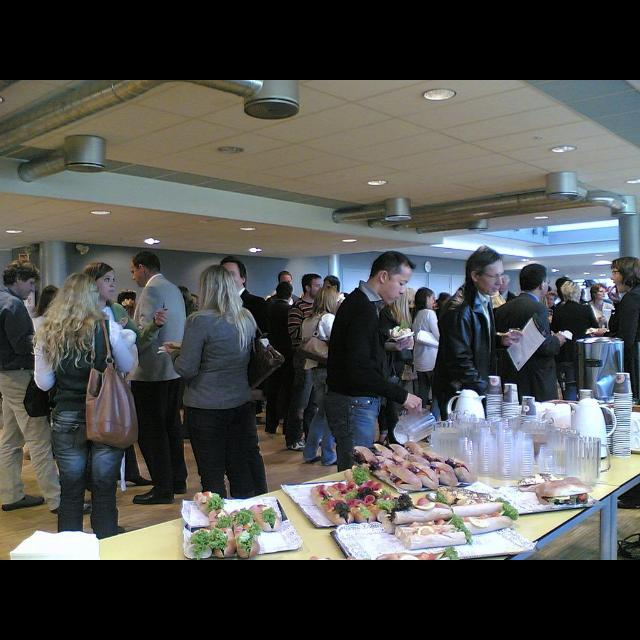head: (372, 250, 416, 306), (466, 248, 506, 296), (2, 258, 44, 300), (199, 264, 235, 306), (64, 274, 100, 314), (83, 262, 117, 300), (130, 251, 163, 289), (518, 264, 550, 298), (220, 257, 246, 291), (317, 286, 339, 312), (302, 272, 324, 298), (42, 285, 62, 313), (386, 280, 409, 304), (414, 288, 436, 310), (322, 275, 342, 297), (276, 281, 294, 303), (564, 282, 582, 304), (592, 283, 608, 301), (278, 272, 294, 290)
person: (318, 248, 438, 558), (153, 262, 267, 534), (30, 269, 140, 546), (432, 244, 526, 558), (60, 260, 170, 514), (480, 261, 572, 555), (0, 256, 96, 520), (110, 248, 192, 508), (193, 255, 275, 513), (296, 284, 348, 471), (551, 278, 603, 456), (20, 282, 68, 466), (366, 276, 414, 454), (258, 268, 306, 440), (282, 271, 324, 453), (581, 281, 623, 451), (309, 272, 347, 444), (256, 280, 296, 436), (406, 284, 444, 448)
